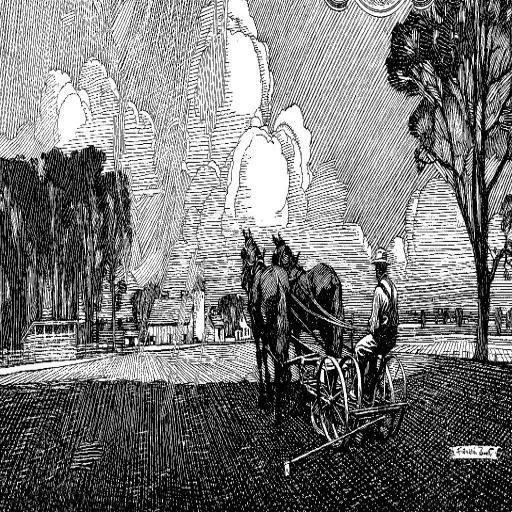horse: (272, 230, 344, 403), (238, 225, 294, 423)
